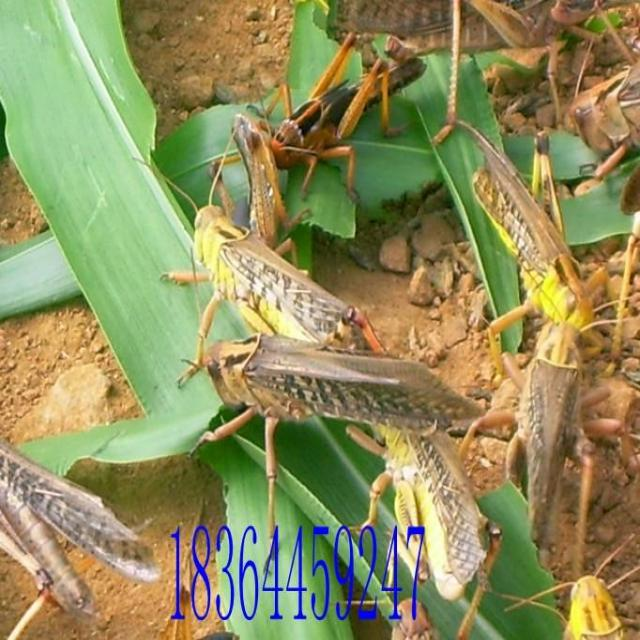ZhaMeng: (126, 154, 374, 357), (449, 106, 614, 334), (207, 327, 475, 448), (501, 299, 600, 566), (273, 35, 433, 179)
